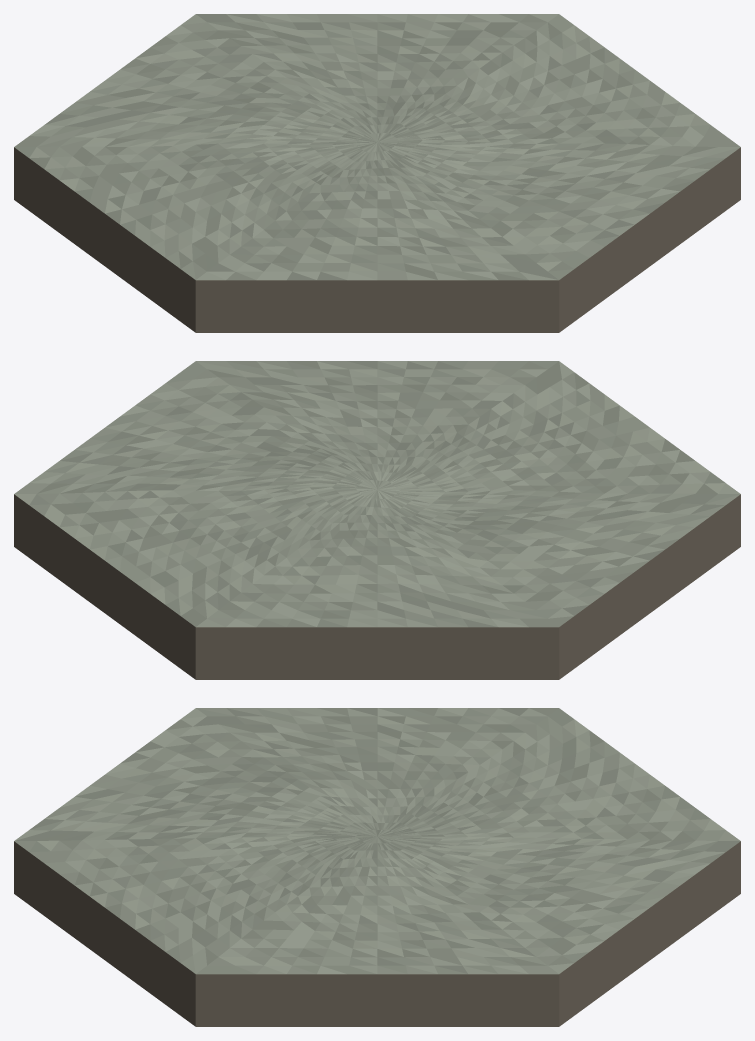
The model's file is TERRAIN_TUNDRA_v00.fbx.
3 renders of one model, top to bottom at view 1: azimuth 30°, elevation 25°; view 2: azimuth 150°, elevation 25°; view 3: azimuth 270°, elevation 25°, orthographic.
Visible parts, largest first — view 1: TERRAIN_TUNDRA_v00; view 2: TERRAIN_TUNDRA_v00; view 3: TERRAIN_TUNDRA_v00.
Part boxes in pixels (x1,y1,x2,y2): TERRAIN_TUNDRA_v00: (14,14,740,332); TERRAIN_TUNDRA_v00: (14,361,740,679); TERRAIN_TUNDRA_v00: (14,708,740,1026).
Bounding box in the file's own units: 173 × 18.41 × 200.
